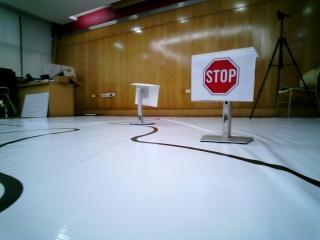stop: (192, 51, 256, 96)
